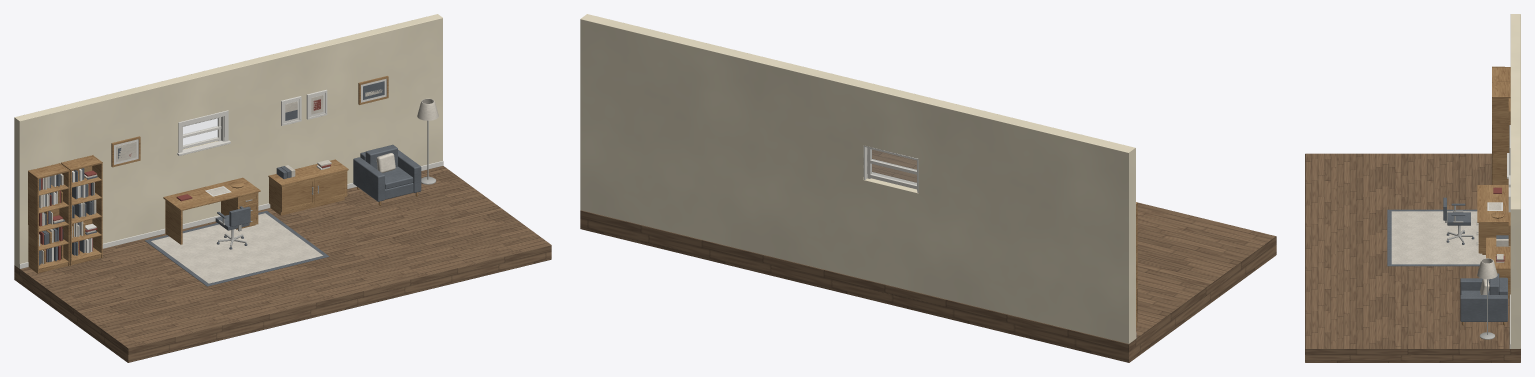
The model's file is Room_Study.fbx.
3 views of the same model, side by side, from view 1: azimuth 30°, elevation 25°; view 2: azimuth 150°, elevation 25°; view 3: azimuth 270°, elevation 25° (orthographic). The views are drawn at different scales.
Parts seen in each view (by area): view 1: Study_BackWall, Study_Floor, Study_Rug, Study_Bookshelves, Study_Books, Study_Credenza, Study_Armchair, Study_Pictures, Study_Desk, Study_Window, Study_OfficeChair, Study_DeskDrawers (+1 smaller); view 2: Study_BackWall, Study_Floor, Study_Window; view 3: Study_Floor, Study_Rug, Study_BackWall, Study_Bookshelves, Study_Armchair, Study_Desk, Study_Credenza, Study_OfficeChair, Study_DeskDrawers, Study_ReadingLamp, Study_Pictures, Study_DeskItems (+1 smaller).
Part boxes in pixels (x1=…): Study_BackWall: x1=14, y1=14, x2=443, y2=268; Study_Floor: x1=14, y1=166, x2=551, y2=362; Study_Rug: x1=145, y1=211, x2=329, y2=286; Study_Bookshelves: x1=28, y1=155, x2=102, y2=273; Study_Books: x1=39, y1=168, x2=97, y2=265; Study_Credenza: x1=268, y1=159, x2=348, y2=215; Study_Armchair: x1=353, y1=144, x2=421, y2=205; Study_Pictures: x1=111, y1=76, x2=388, y2=167; Study_Desk: x1=163, y1=177, x2=260, y2=244; Study_Window: x1=177, y1=110, x2=230, y2=155; Study_OfficeChair: x1=215, y1=206, x2=250, y2=249; Study_DeskDrawers: x1=221, y1=192, x2=258, y2=229; Study_BackWall: x1=580, y1=14, x2=1136, y2=343; Study_Floor: x1=580, y1=149, x2=1276, y2=362; Study_Window: x1=863, y1=145, x2=918, y2=192; Study_Floor: x1=1305, y1=153, x2=1520, y2=362; Study_Rug: x1=1387, y1=209, x2=1485, y2=266; Study_BackWall: x1=1509, y1=14, x2=1520, y2=348; Study_Bookshelves: x1=1492, y1=66, x2=1510, y2=184; Study_Armchair: x1=1460, y1=273, x2=1507, y2=325; Study_Desk: x1=1477, y1=185, x2=1508, y2=222; Study_Credenza: x1=1486, y1=237, x2=1510, y2=298; Study_OfficeChair: x1=1443, y1=197, x2=1474, y2=244; Study_DeskDrawers: x1=1476, y1=222, x2=1508, y2=254; Study_ReadingLamp: x1=1477, y1=258, x2=1497, y2=339; Study_Pictures: x1=1508, y1=98, x2=1510, y2=245; Study_DeskItems: x1=1487, y1=187, x2=1504, y2=218.
Bounding box in the file's own units: 900 × 330 × 420.
9 materials, 5 textured.
